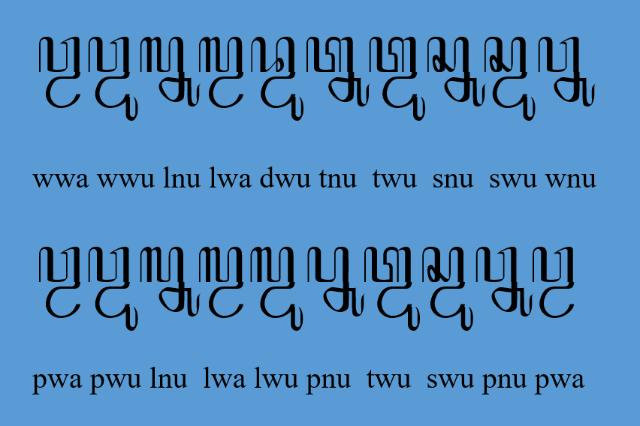dwu: (250, 36, 304, 122)
lnu: (139, 246, 201, 318), (140, 36, 200, 108)
lw: (199, 36, 245, 110), (199, 246, 245, 320)
lwu: (250, 246, 304, 332)
pnu: (307, 246, 365, 318)
snu: (427, 36, 485, 108)
swu: (422, 247, 474, 333), (484, 37, 536, 122)
tnu: (306, 36, 370, 108)
twu: (364, 247, 421, 334), (368, 37, 426, 122)
wnu: (475, 247, 533, 319), (538, 36, 596, 107)
ww: (38, 36, 82, 110), (38, 247, 82, 319), (531, 247, 573, 319)
wwu: (89, 247, 140, 332), (88, 36, 138, 122)
